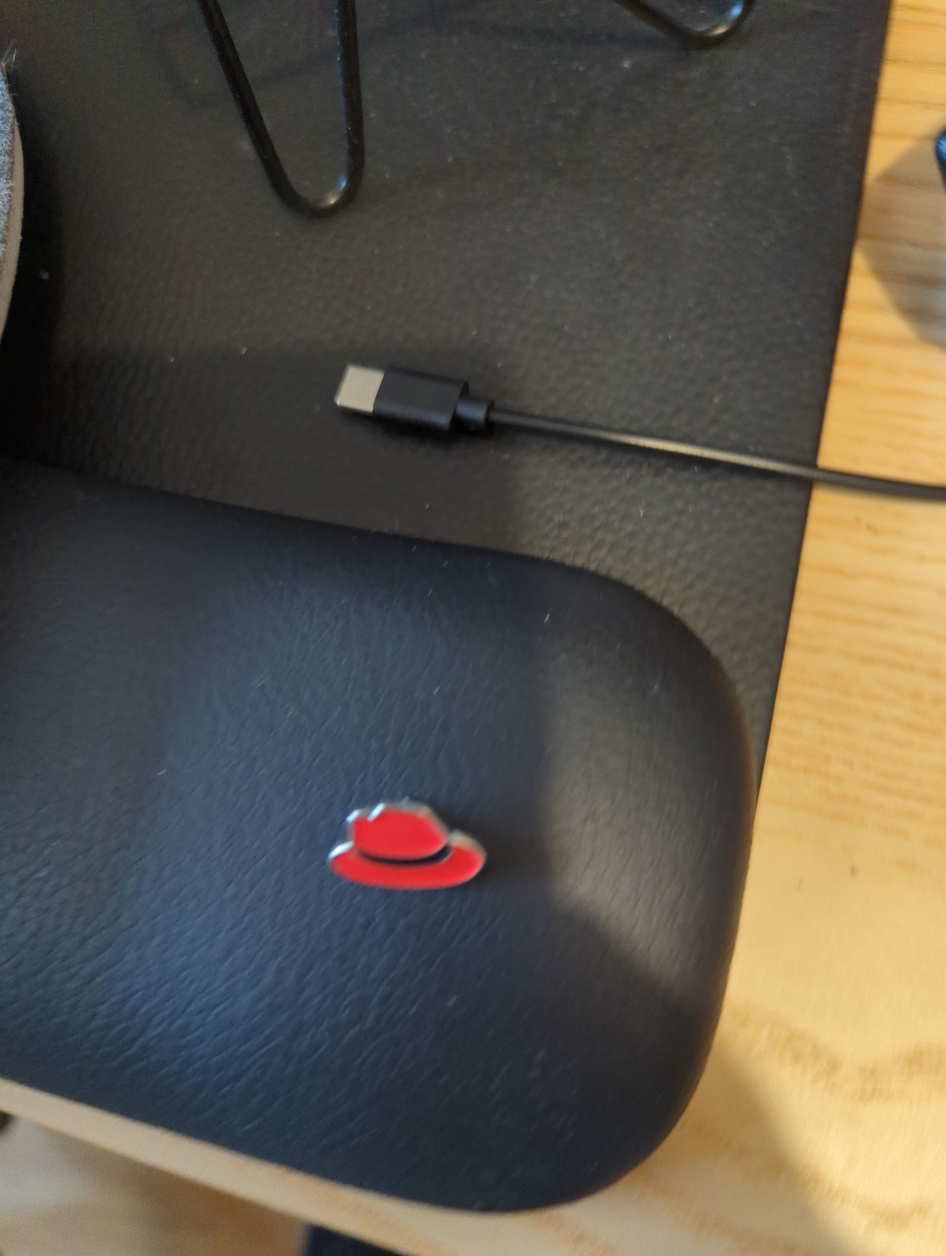Red-Hat: (260, 746, 577, 943)
